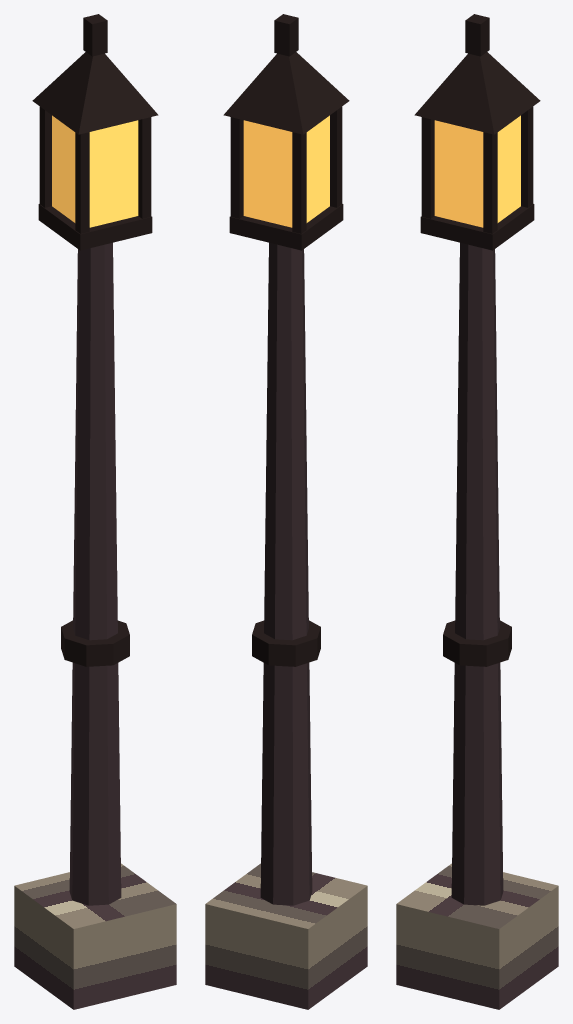
The model's file is lamp_post.glb.
3 views of the same model, side by side, from view 1: azimuth 30°, elevation 25°; view 2: azimuth 150°, elevation 25°; view 3: azimuth 330°, elevation 25° (orthographic).
Visible parts, largest first — view 1: lamp_post; view 2: lamp_post; view 3: lamp_post.
Boxes of the visible parts, bbox=[...] form: lamp_post: bbox=[14, 14, 176, 1009]; lamp_post: bbox=[205, 14, 367, 1009]; lamp_post: bbox=[396, 14, 558, 1009].
Bounding box in the file's own units: 0.4 × 3.55 × 0.4.
3 materials, 1 textured.
